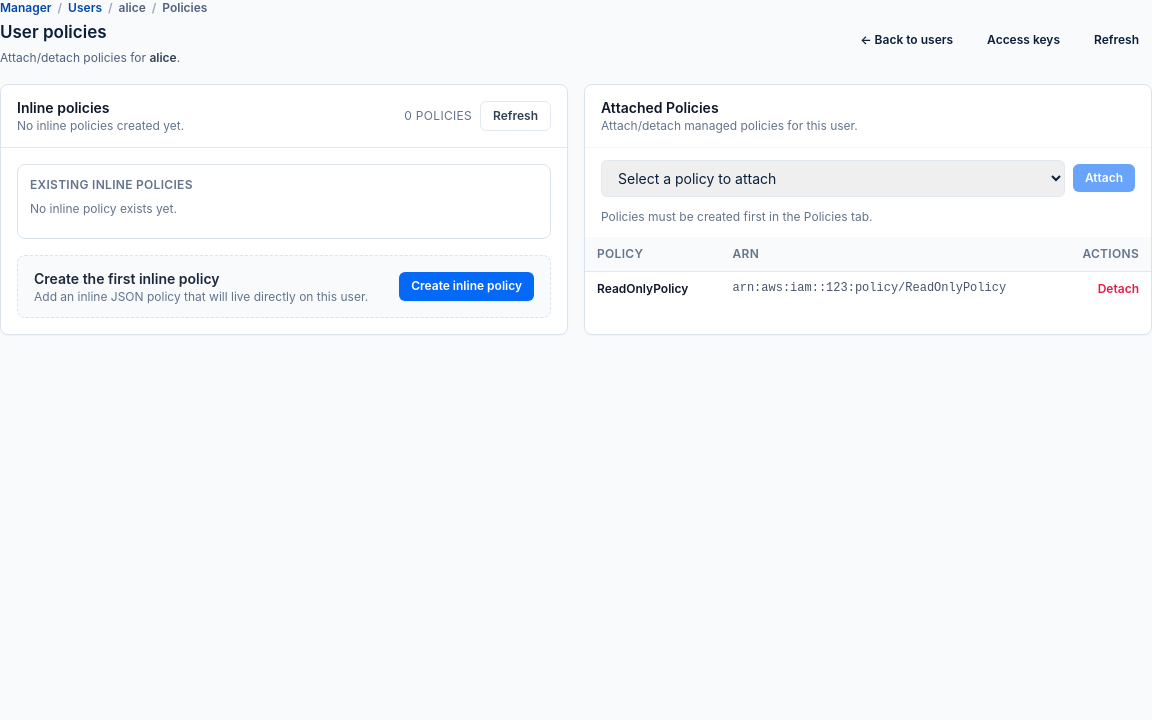
it: ManagerUserPoliciesPage list states › keeps policies rows visible when refresh fails after a successful load
Check: the text "ReadOnlyPolicy" is shown, box [585,271,720,305]
Click the button "Detach": (1118, 289) [1098,281,1139,297]
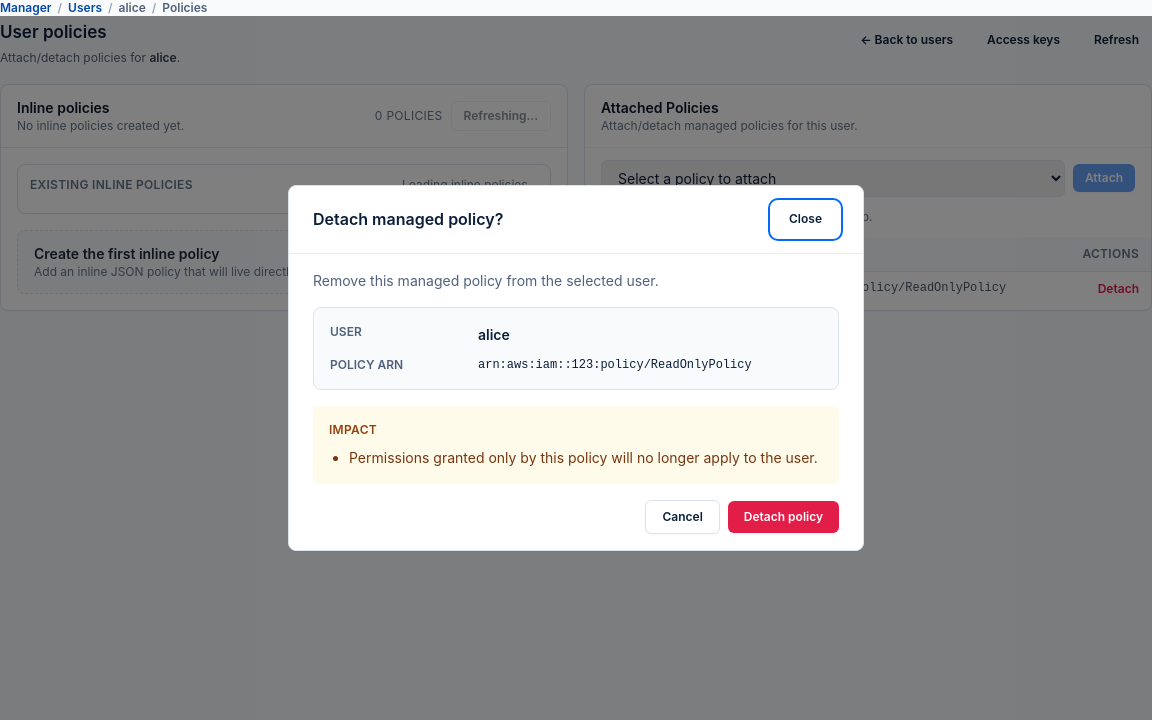
Check: the heading "Detach managed policy?" is shown, box [313,208,503,230]
Click the button "Cancel": (683, 517) [646,500,720,534]
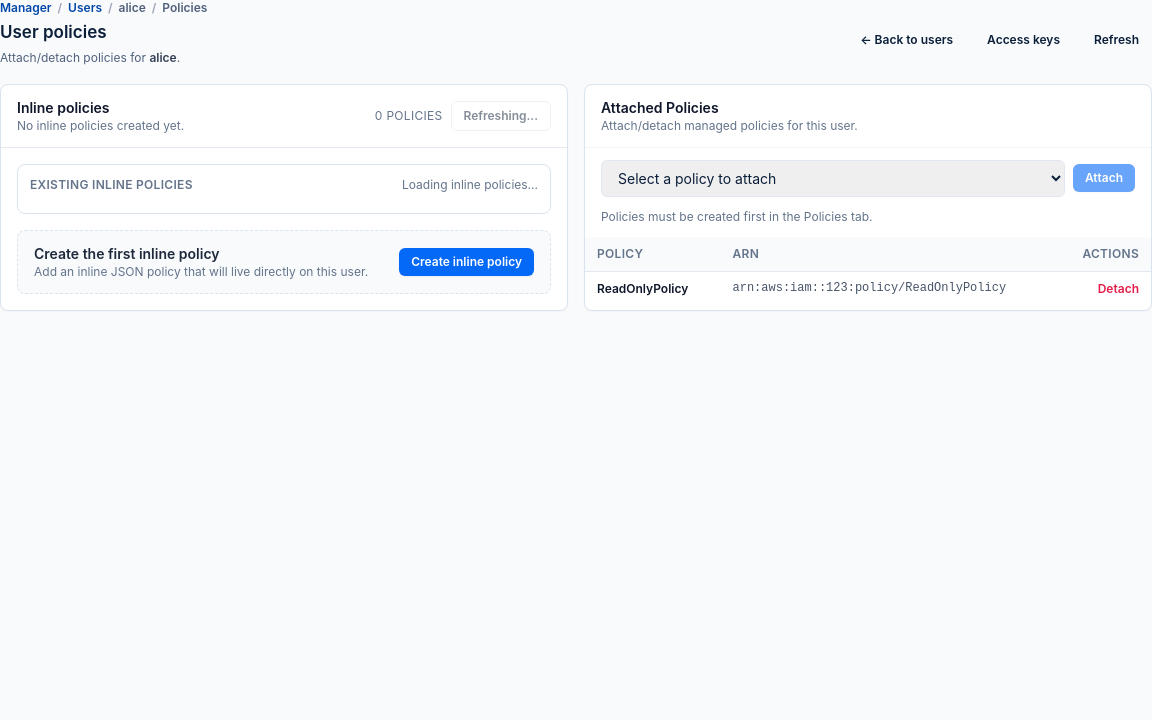
Click the button "Refresh": (1116, 40) [1081,24,1151,56]
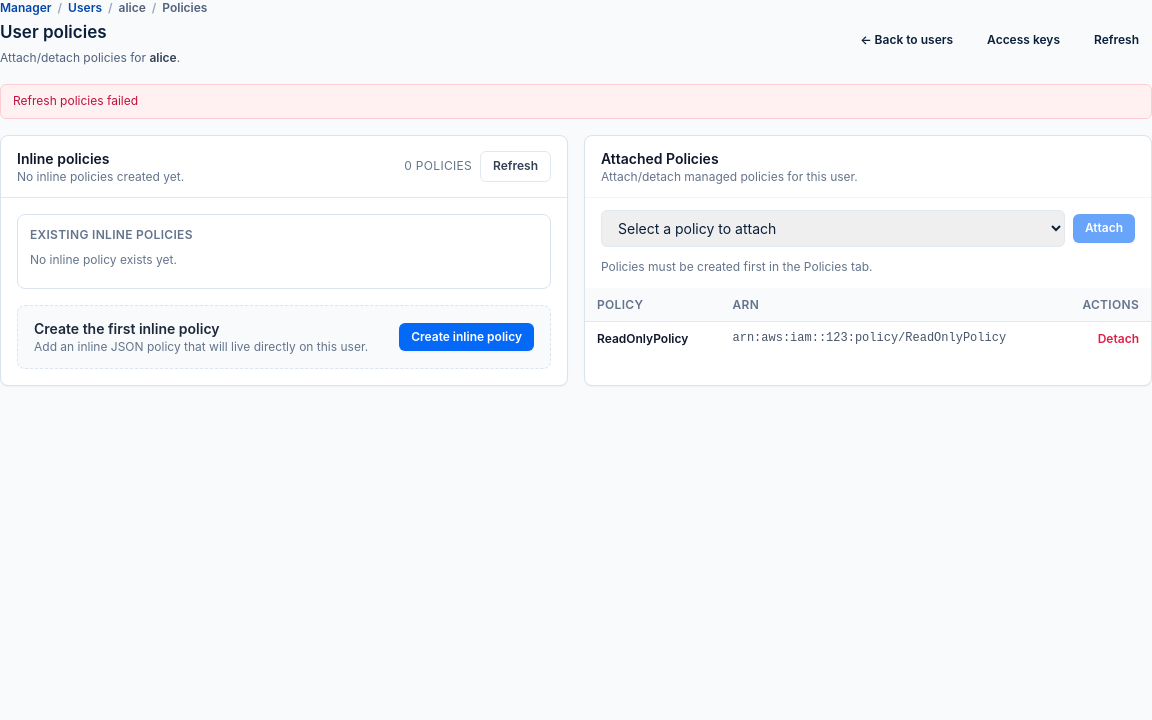
Check: the text "ReadOnlyPolicy" is shown, box [585,322,720,356]
Check: the text "Refresh policies failed" is shown, box [0,84,1151,118]
